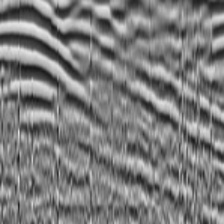cavities: (0, 0, 89, 122)
